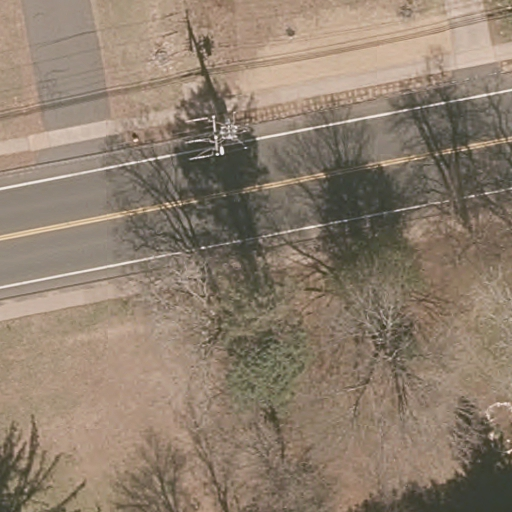DT: (184, 114, 251, 162)
